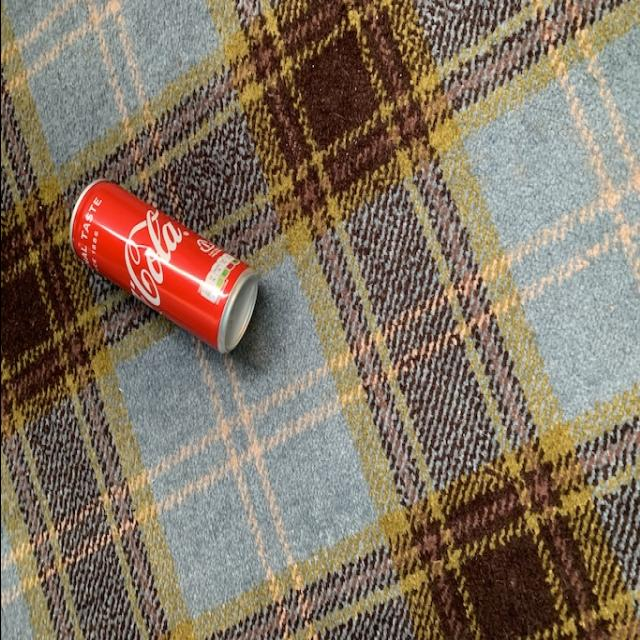Aluminum Can: (68, 178, 258, 356)
